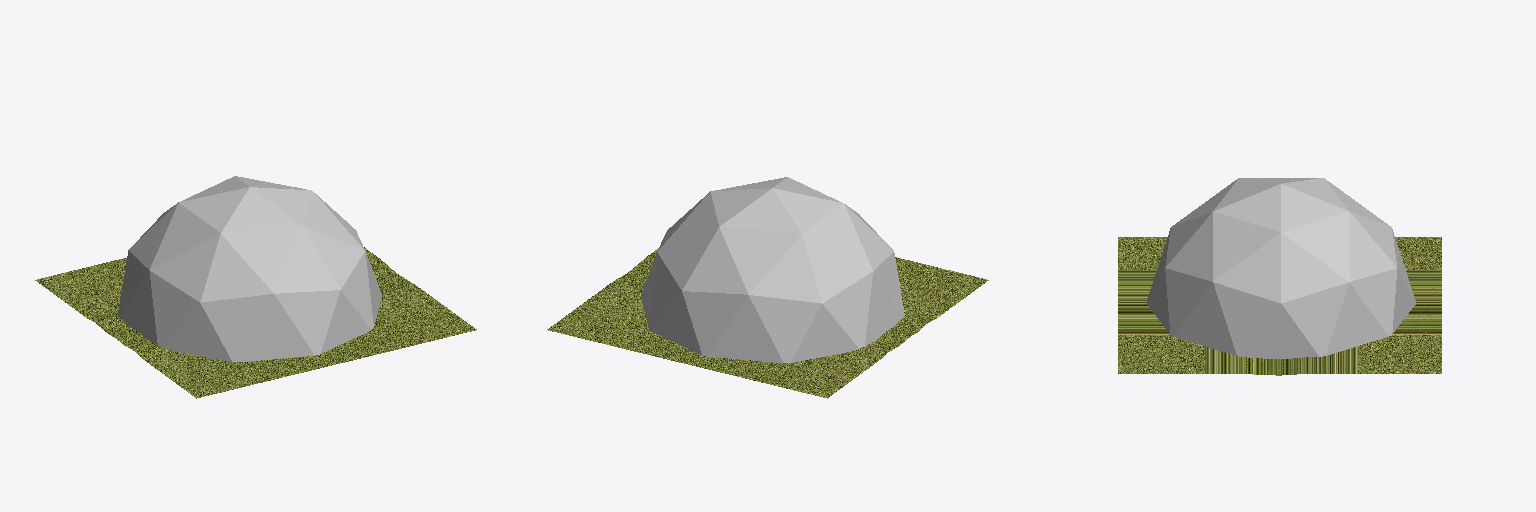
The picture shows the model from 3 angles: view 1: azimuth 30°, elevation 25°; view 2: azimuth 150°, elevation 25°; view 3: azimuth 270°, elevation 25°; orthographic projection.
Visible parts, largest first — view 1: Icosphere, Plane_Plane.002; view 2: Icosphere, Plane_Plane.002; view 3: Icosphere, Plane_Plane.002.
Boxes of the visible parts, x1,y1,x2,y2 form: Icosphere: [118, 176, 381, 362]; Plane_Plane.002: [35, 247, 476, 398]; Icosphere: [641, 177, 904, 362]; Plane_Plane.002: [547, 248, 988, 398]; Icosphere: [1147, 178, 1415, 358]; Plane_Plane.002: [1118, 237, 1441, 375].
Bounding box in the file's own units: 33.92 × 16.09 × 33.9.
Materials: 8 (4 with a texture image).